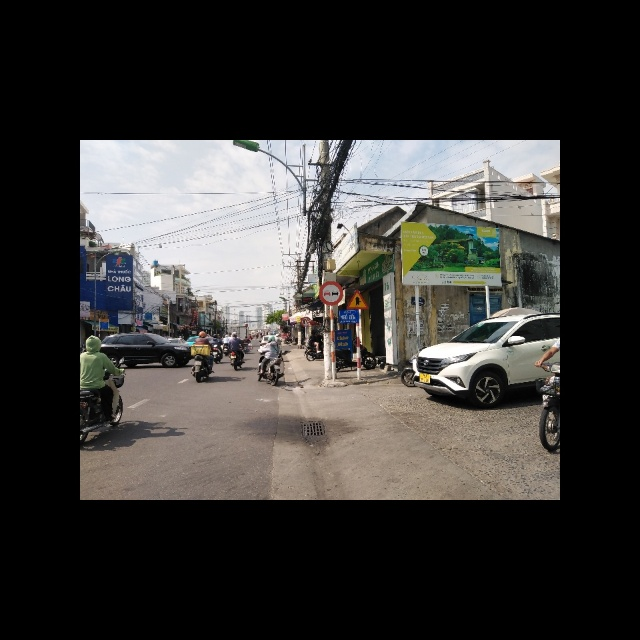Cấm vượt: (319, 281, 344, 305)
Giao nhau với đường không ưu tiên: (347, 288, 370, 310)
